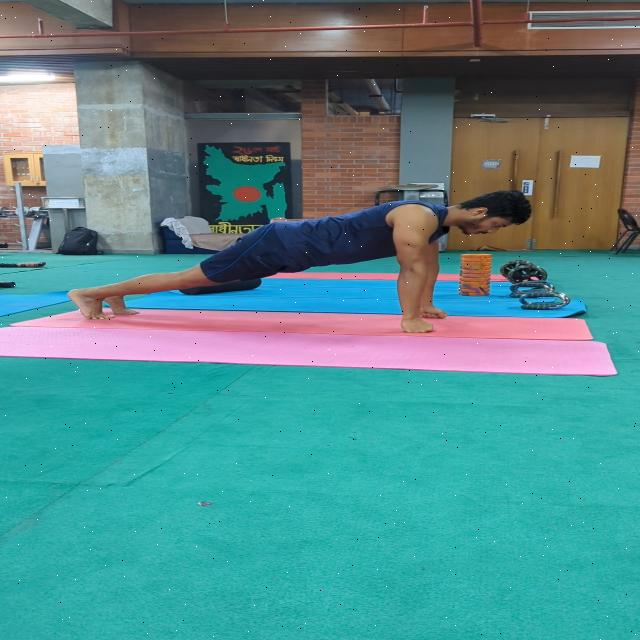Normal_PushUps: (68, 180, 539, 342)
